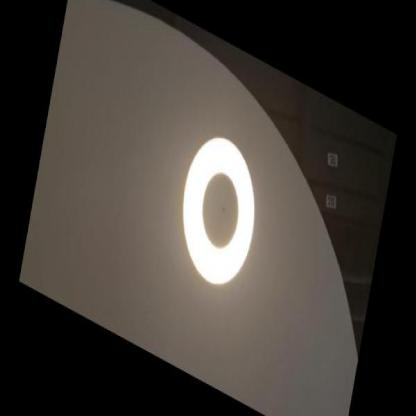light_on: (158, 101, 282, 318)
